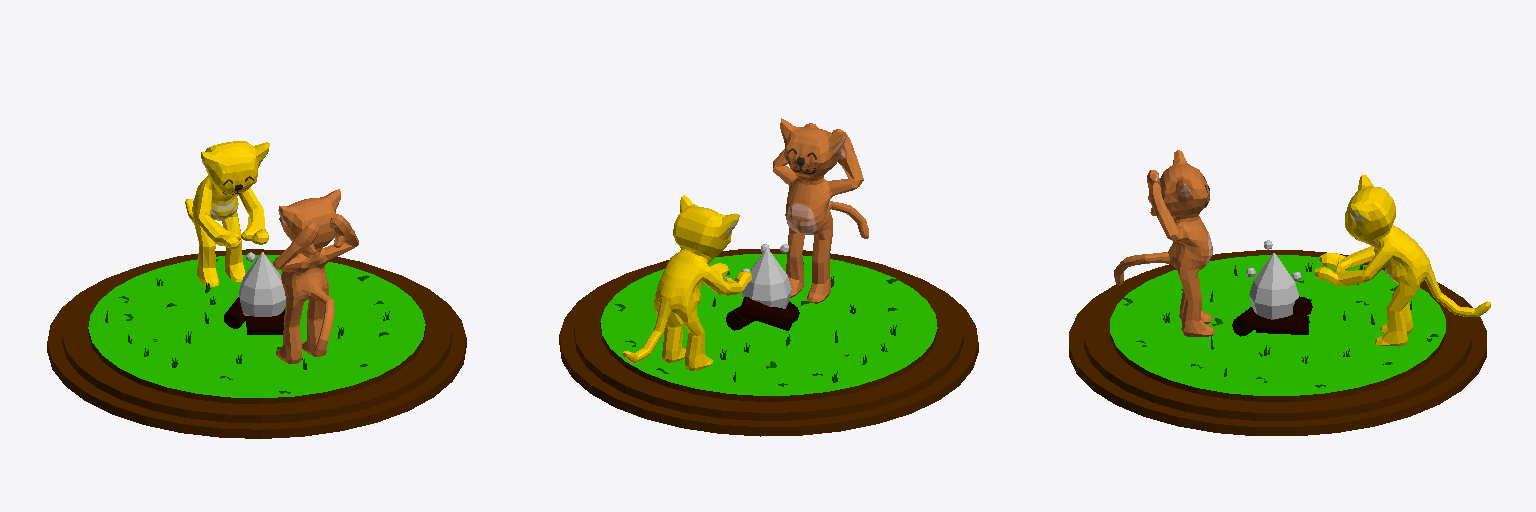
3 renders of one model, left to right at view 1: azimuth 30°, elevation 25°; view 2: azimuth 150°, elevation 25°; view 3: azimuth 270°, elevation 25°, orthographic.
Visible parts, largest first — view 1: Cylinder.005_Cylinder.009; view 2: Cylinder.005_Cylinder.009; view 3: Cylinder.005_Cylinder.009.
Boxes of the visible parts, x1=… form: Cylinder.005_Cylinder.009: x1=47, y1=141, x2=466, y2=438; Cylinder.005_Cylinder.009: x1=559, y1=118, x2=978, y2=436; Cylinder.005_Cylinder.009: x1=1069, y1=150, x2=1490, y2=435.
Bounding box in the file's own units: 1.66 × 0.8212 × 1.68.
Materials: 7 (2 with a texture image).